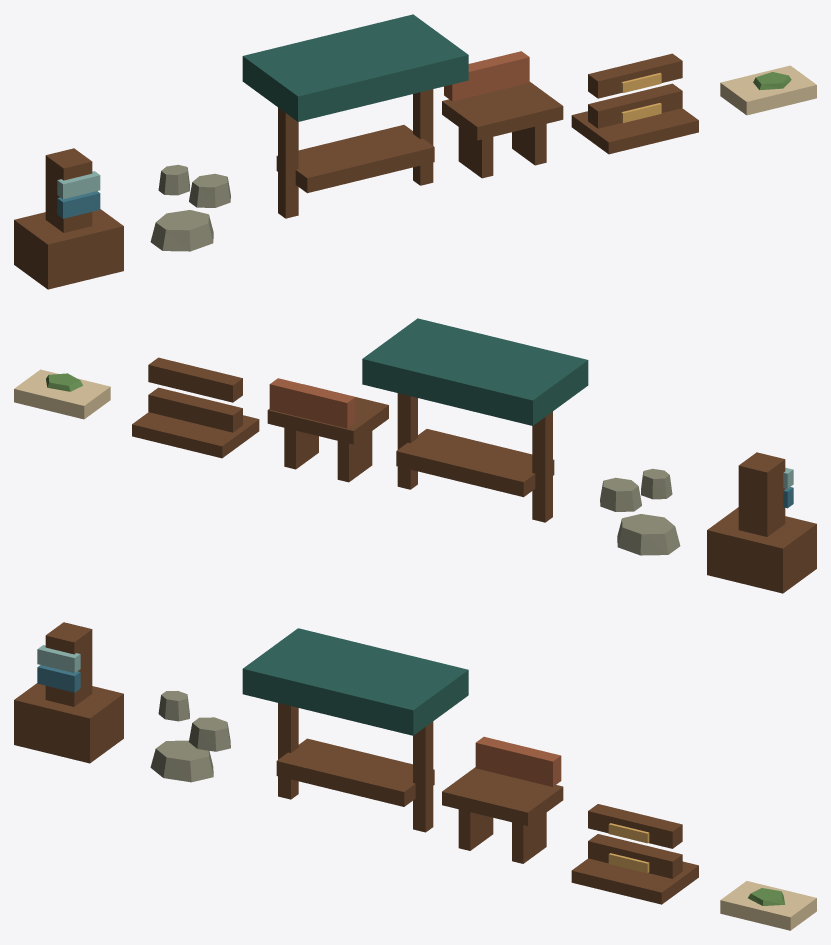
File: sum-collei-guide-model.obj
The picture shows the model from 3 angles, top to bottom: view 1: azimuth 30°, elevation 25°; view 2: azimuth 150°, elevation 25°; view 3: azimuth 330°, elevation 25°; orthographic projection.
Parts seen in each view (by area): view 1: Rainforest trail props; view 2: Rainforest trail props; view 3: Rainforest trail props.
Part boxes in pixels (x1,y1,x2,y2): Rainforest trail props: (14,14,816,289); Rainforest trail props: (14,318,816,593); Rainforest trail props: (14,622,816,930).
Size of the model in its own units: 5.39 by 0.95 by 0.67.
